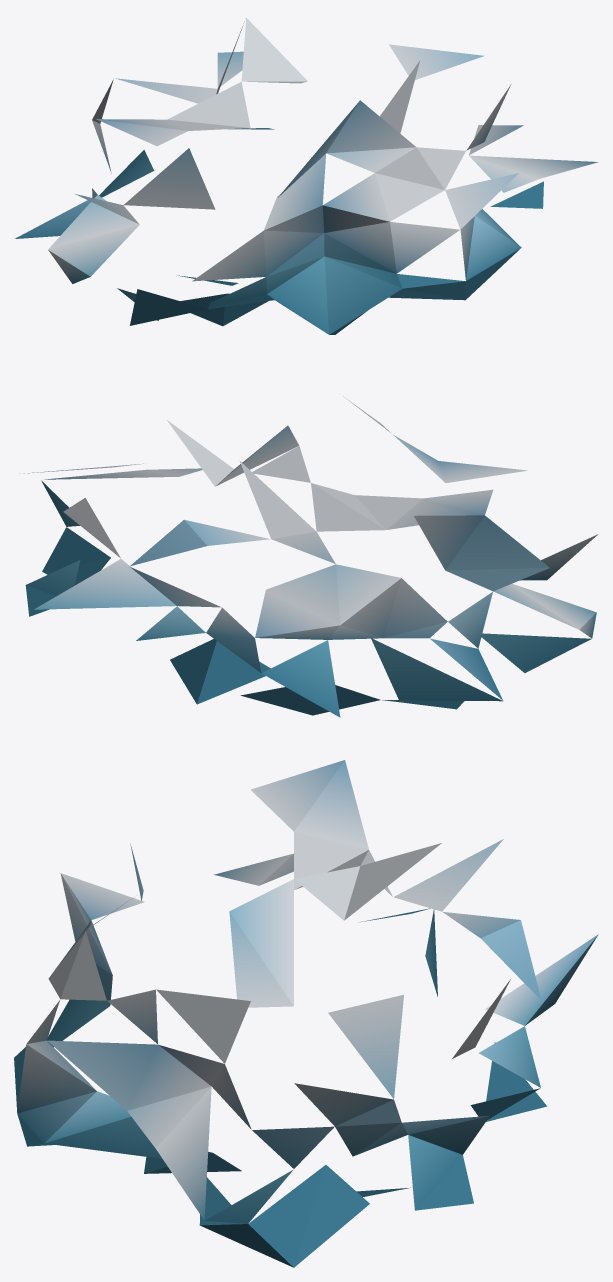
Rendered from frost_iceberg_c_lod1.glb.
3 views of the same model, one above another, from view 1: azimuth 30°, elevation 25°; view 2: azimuth 150°, elevation 25°; view 3: azimuth 270°, elevation 25° (orthographic). The views are drawn at different scales.
Parts seen in each view (by area): view 1: geometry_0; view 2: geometry_0; view 3: geometry_0.
Boxes of the visible parts, bbox=[...] form: geometry_0: bbox=[15, 18, 598, 334]; geometry_0: bbox=[19, 396, 598, 717]; geometry_0: bbox=[14, 760, 598, 1267].
Size of the model in its own units: 70.72 by 31.31 by 50.4.
